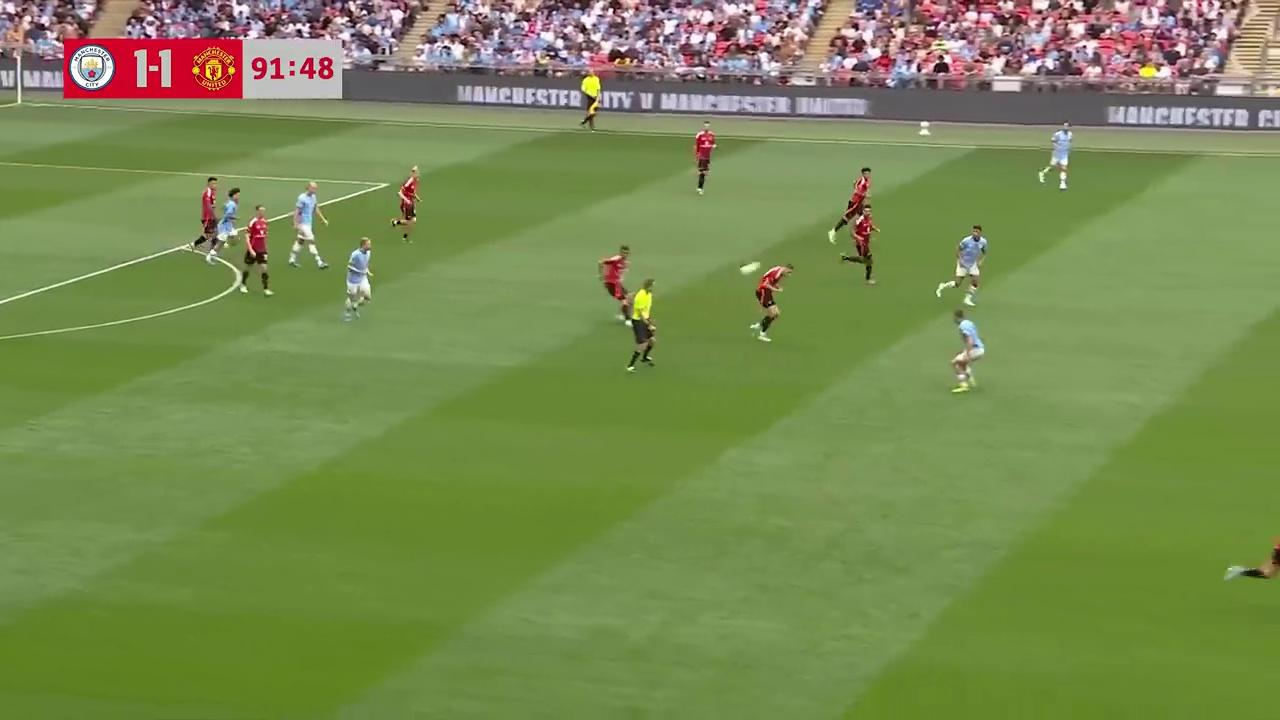ball: (738, 257, 762, 275)
player: (936, 225, 987, 306), (1224, 525, 1279, 596), (748, 261, 795, 341), (287, 184, 328, 269), (237, 206, 274, 296), (839, 205, 880, 285), (624, 278, 658, 372), (829, 167, 872, 241), (949, 309, 984, 392), (597, 245, 631, 323), (342, 238, 373, 320), (1037, 121, 1073, 189), (390, 167, 421, 244), (291, 181, 329, 243), (192, 177, 219, 262), (216, 186, 240, 260), (693, 122, 716, 194)
referee: (625, 279, 657, 373), (579, 69, 602, 131)
